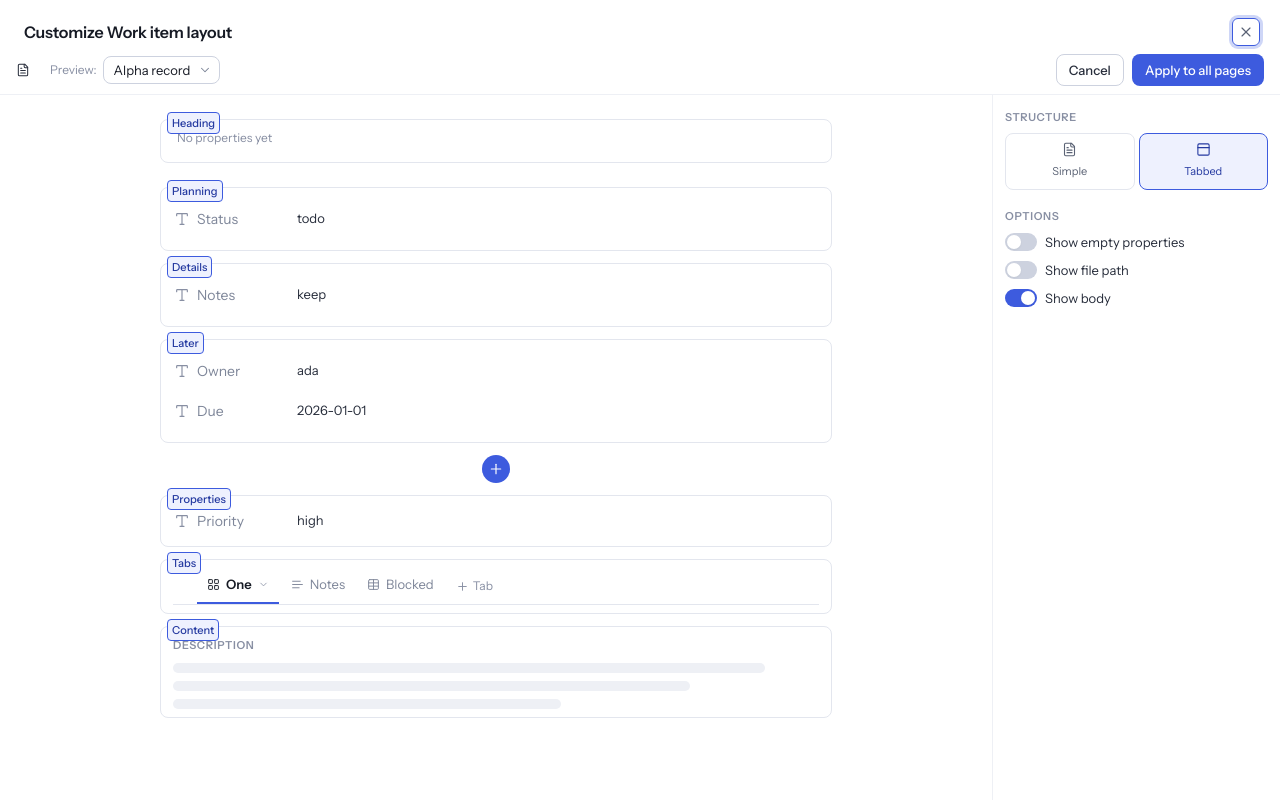
Test: properties stand above the tabs, on every tab (M46.1) › a view tab keeps the stack, shows its placeholder, and drops the body
Click the tab with test id "record-tab-v1".
click(400, 586)  # box [357,568,444,604]
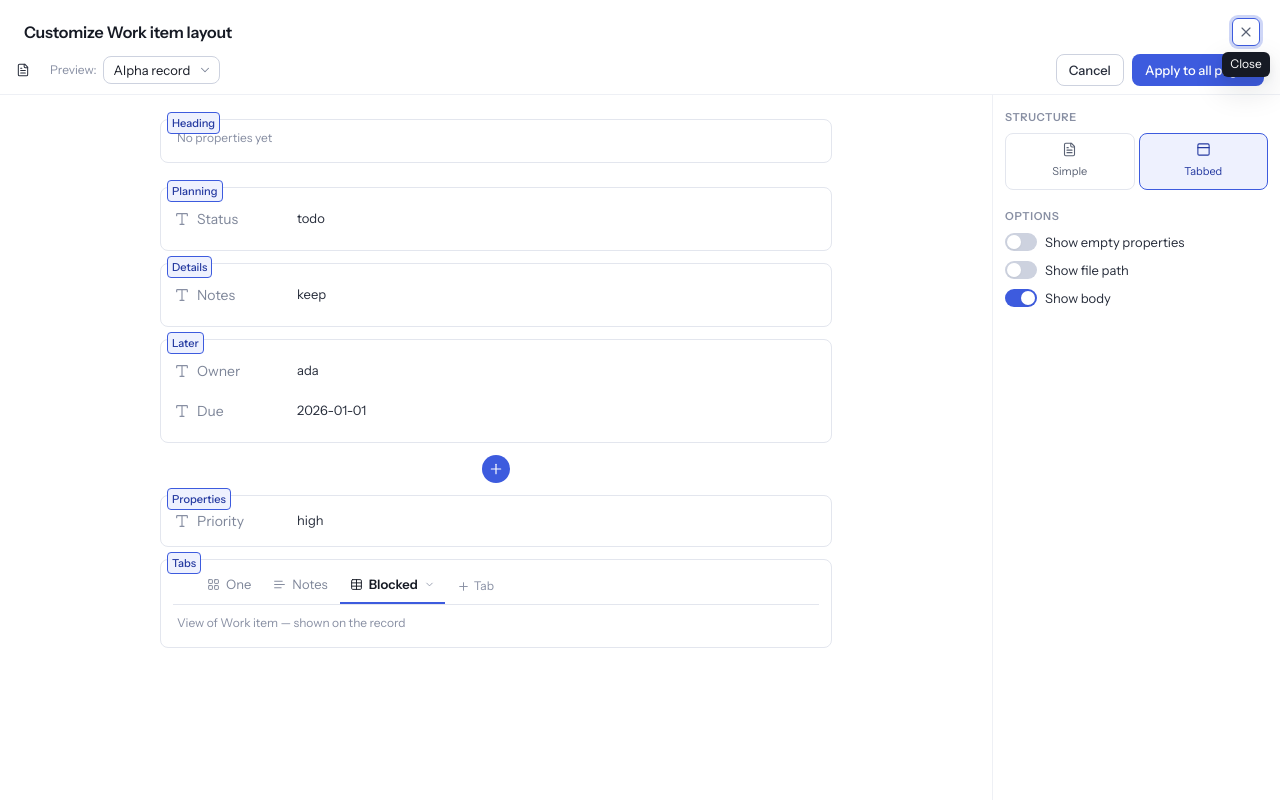
Expected: the button named "Add section" is shown, [482,455,510,483]
Expected: the text with test id "layout-preview-viewtab" reads "View of Work item — shown on the record", [177,615,406,630]
Expected: the element with test id "layout-preview-body" is gone
